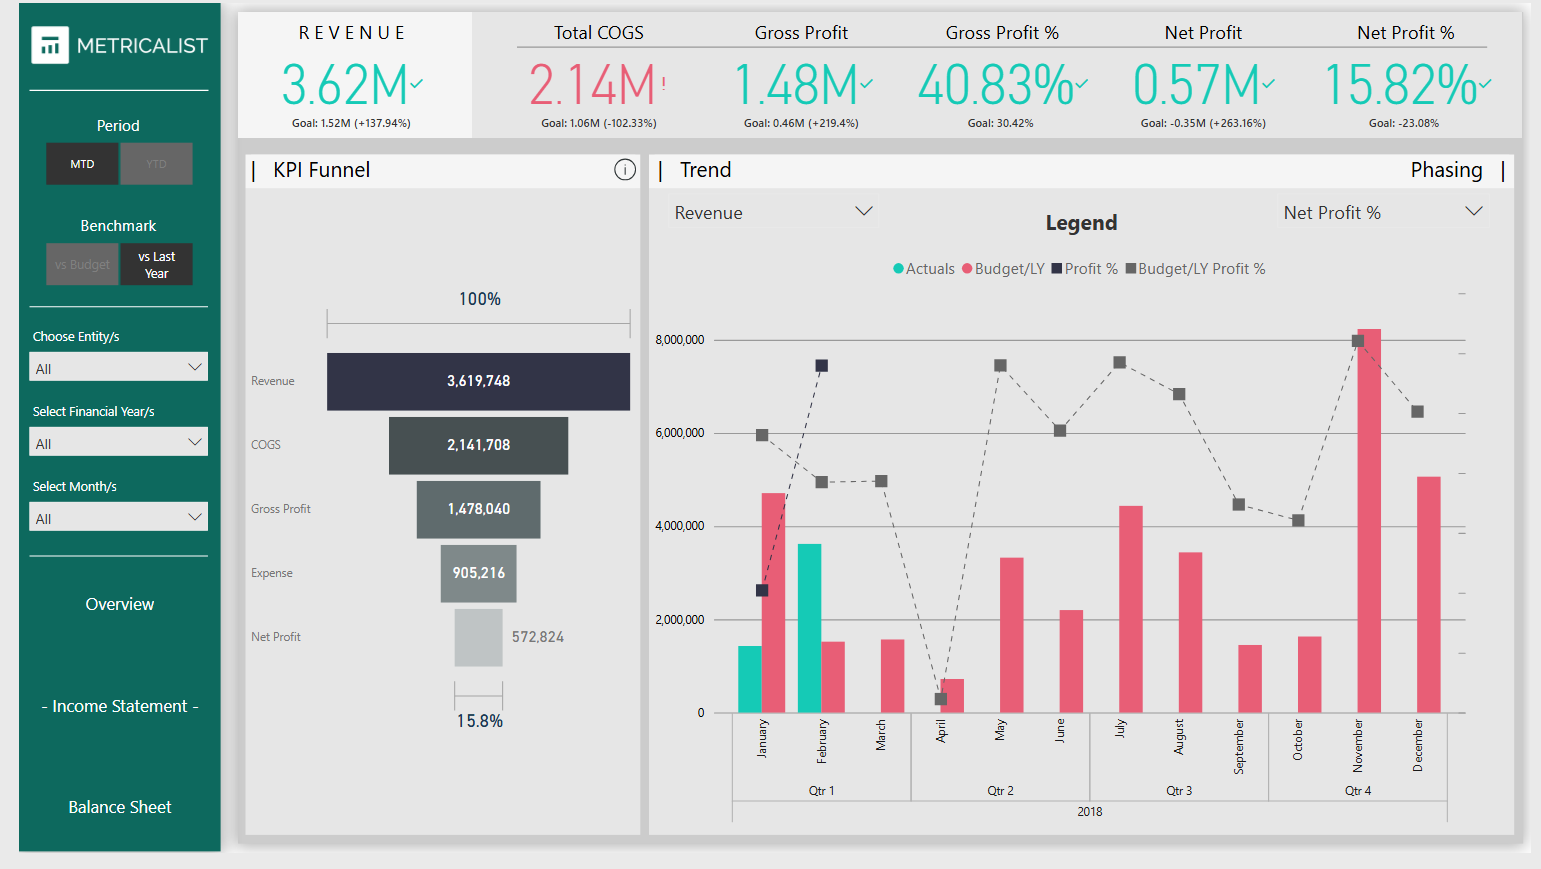

Layout of this report page (visuals, bound fields, positions):
{"tool":"powerbi","page":{"name":"Financial Overview","canvas":[1440,810],"ordinal":0},"visuals":[{"type":"shape","box":[208,8,1224,792],"z":0},{"type":"shape","box":[0,0,192,808],"z":1000},{"type":"shape","box":[208,8,224,120],"z":2000},{"type":"shape","box":[432,8,1000,120],"z":3000},{"type":"pivotTable","fields":{"Columns":["Calender-Date.Date.Variation.Date Hierarchy.Year","Calender-Date.Date.Variation.Date Hierarchy.Month"],"Rows":["Balance Sheet.Category","Balance Sheet.Group","Balance Sheet.Sub-Group","Balance Sheet.Account"],"Values":["Sum(Balance Sheet.Amount)"]},"box":[219,144,1204,650],"z":4000},{"type":"basicShape","box":[464.6,30,944,24],"z":21000},{"type":"kpi","title":"Net Profit %","fields":{"TrendLine":["Date Table.Date"],"Goal":["Comparison.Target Net Profit %"],"Indicator":["Income Statement.Net Profit %"]},"box":[1232.6,16,176,112],"z":22000},{"type":"kpi","title":"Net Profit","fields":{"TrendLine":["Date Table.Date"],"Goal":["Comparison.Target Net Profit"],"Indicator":["Income Statement.Net Profit"]},"box":[1040.6,16,176,112],"z":23000},{"type":"kpi","title":"Gross Profit %","fields":{"TrendLine":["Date Table.Date"],"Goal":["Comparison.Target Gross Profit %"],"Indicator":["Income Statement.Gross Profit %"]},"box":[848.6,16,176,112],"z":24000},{"type":"kpi","title":"Gross Profit","fields":{"TrendLine":["Date Table.Date"],"Goal":["Comparison.Target Gross Profit"],"Indicator":["Income Statement.Gross Profit"]},"box":[656.6,16,176,112],"z":25000},{"type":"kpi","title":"Total COGS","fields":{"TrendLine":["Date Table.Date"],"Goal":["Comparison.Target COGS"],"Indicator":["Income Statement.COGS"]},"box":[464.6,16,176,112],"z":26000},{"type":"kpi","title":"R E V E N U E","fields":{"TrendLine":["Date Table.Date"],"Goal":["Comparison.Target Revenue"],"Indicator":["Income Statement.Revenue"]},"box":[208,16,216,112],"z":27000},{"type":"actionButton","box":[0,744,192,40],"z":30000},{"type":"actionButton","box":[0,648,192,40],"z":31000},{"type":"actionButton","box":[0,552,192,40],"z":33000},{"type":"basicShape","box":[0,517.1,190,16.3],"z":35000},{"type":"slicer","fields":{"Values":["Calender-Date.Month"]},"box":[0,447.1,190,79.6],"z":36000},{"type":"slicer","fields":{"Values":["Calender-Date.Year"]},"box":[0,375.7,190,78.8],"z":37000},{"type":"slicer","fields":{"Values":["Entity.Entity"]},"box":[0,303.9,190,79.7],"z":38000},{"type":"basicShape","box":[0,280.2,190,15.8],"z":39000},{"type":"slicer","title":"Benchmark","fields":{"Values":["Benchmark.Benchmark"]},"box":[0,201.1,189.3,74.6],"z":40000},{"type":"slicer","title":"Period","fields":{"Values":["Period.Period"]},"box":[0,105.9,189.3,74.6],"z":41000},{"type":"basicShape","box":[0,74.9,190.5,16.5],"z":42000},{"type":"image","box":[1.8,0,191.5,82.3],"z":45001}]}

Visuals, with their boxes in screenshot pixels (x1, y1, x2, y2), scaled from the page's 1440x810 canvas onto the 1541x869 screenshot:
shape: (x1=223, y1=9, x2=1532, y2=858)
shape: (x1=0, y1=0, x2=205, y2=867)
shape: (x1=223, y1=9, x2=462, y2=137)
shape: (x1=462, y1=9, x2=1532, y2=137)
pivotTable - Calender-Date.Date.Variation.Date Hierarchy.Year x Calender-Date.Date.Variation.Date Hierarchy.Month: (x1=234, y1=154, x2=1523, y2=852)
basicShape: (x1=497, y1=32, x2=1507, y2=58)
"Net Profit %" kpi: (x1=1319, y1=17, x2=1507, y2=137)
"Net Profit" kpi: (x1=1114, y1=17, x2=1302, y2=137)
"Gross Profit %" kpi: (x1=908, y1=17, x2=1096, y2=137)
"Gross Profit" kpi: (x1=703, y1=17, x2=891, y2=137)
"Total COGS" kpi: (x1=497, y1=17, x2=686, y2=137)
"R E V E N U E" kpi: (x1=223, y1=17, x2=454, y2=137)
actionButton: (x1=0, y1=798, x2=205, y2=841)
actionButton: (x1=0, y1=695, x2=205, y2=738)
actionButton: (x1=0, y1=592, x2=205, y2=635)
basicShape: (x1=0, y1=555, x2=203, y2=572)
slicer - Calender-Date.Month: (x1=0, y1=480, x2=203, y2=565)
slicer - Calender-Date.Year: (x1=0, y1=403, x2=203, y2=488)
slicer - Entity.Entity: (x1=0, y1=326, x2=203, y2=412)
basicShape: (x1=0, y1=301, x2=203, y2=318)
"Benchmark" slicer: (x1=0, y1=216, x2=203, y2=296)
"Period" slicer: (x1=0, y1=114, x2=203, y2=194)
basicShape: (x1=0, y1=80, x2=204, y2=98)
image: (x1=2, y1=0, x2=207, y2=88)
